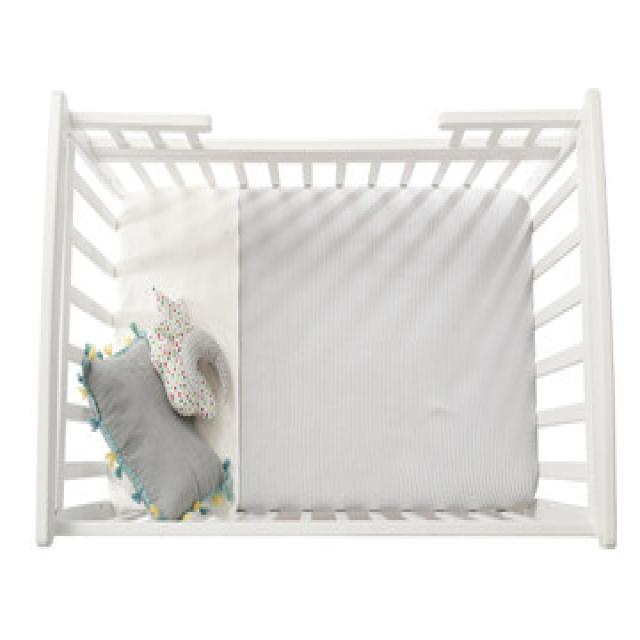crib: (52, 109, 599, 546)
